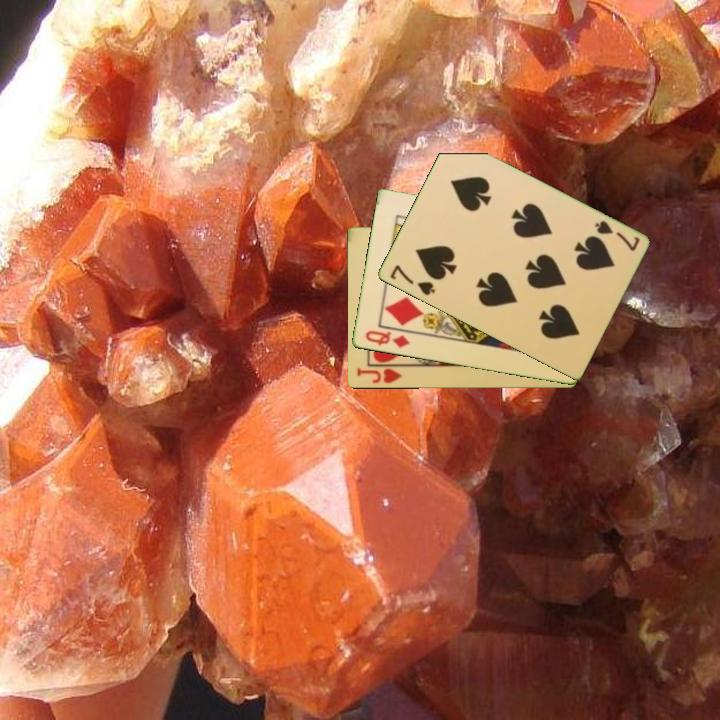7s: (386, 261, 437, 299), (591, 217, 642, 254)
Jh: (353, 362, 409, 386)
Qd: (361, 327, 412, 351)
